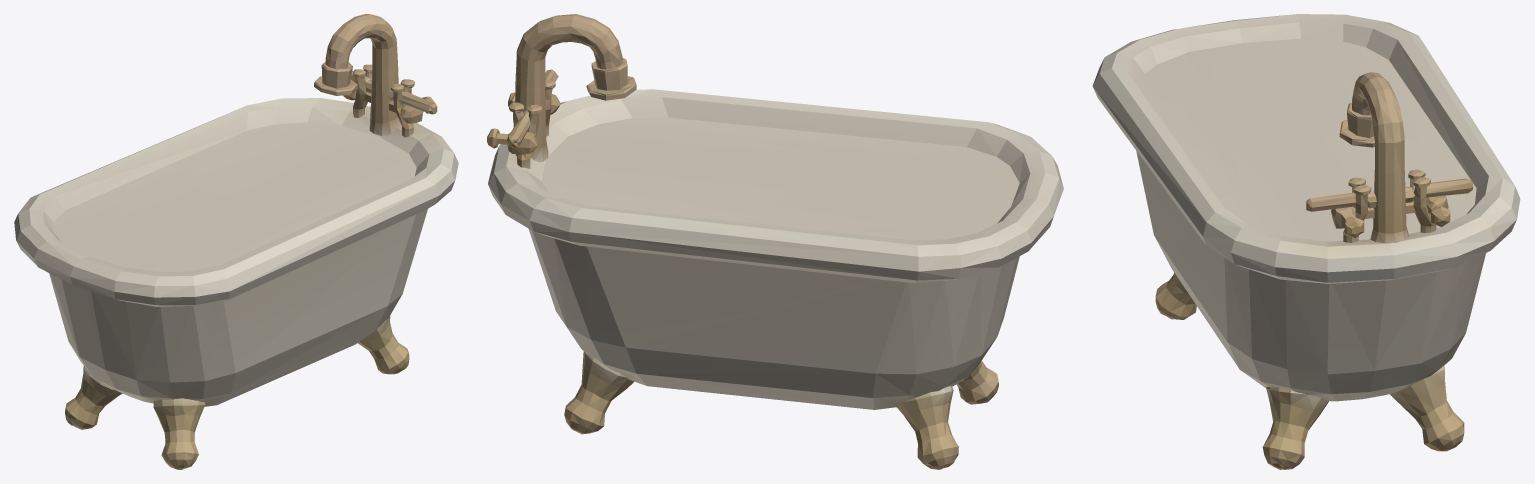
Rendered from bathtub.glb.
3 views of the same model, side by side, from view 1: azimuth 30°, elevation 25°; view 2: azimuth 150°, elevation 25°; view 3: azimuth 270°, elevation 25° (orthographic). The views are drawn at different scales.
Visible parts, largest first — view 1: geometry_0; view 2: geometry_0; view 3: geometry_0.
Boxes of the visible parts, box(x1,y1,x2,y2) form: geometry_0: box(14, 14, 458, 469); geometry_0: box(487, 14, 1063, 469); geometry_0: box(1092, 14, 1520, 469).
Size of the model in its own units: 0.1646 by 0.1211 by 0.1191.
